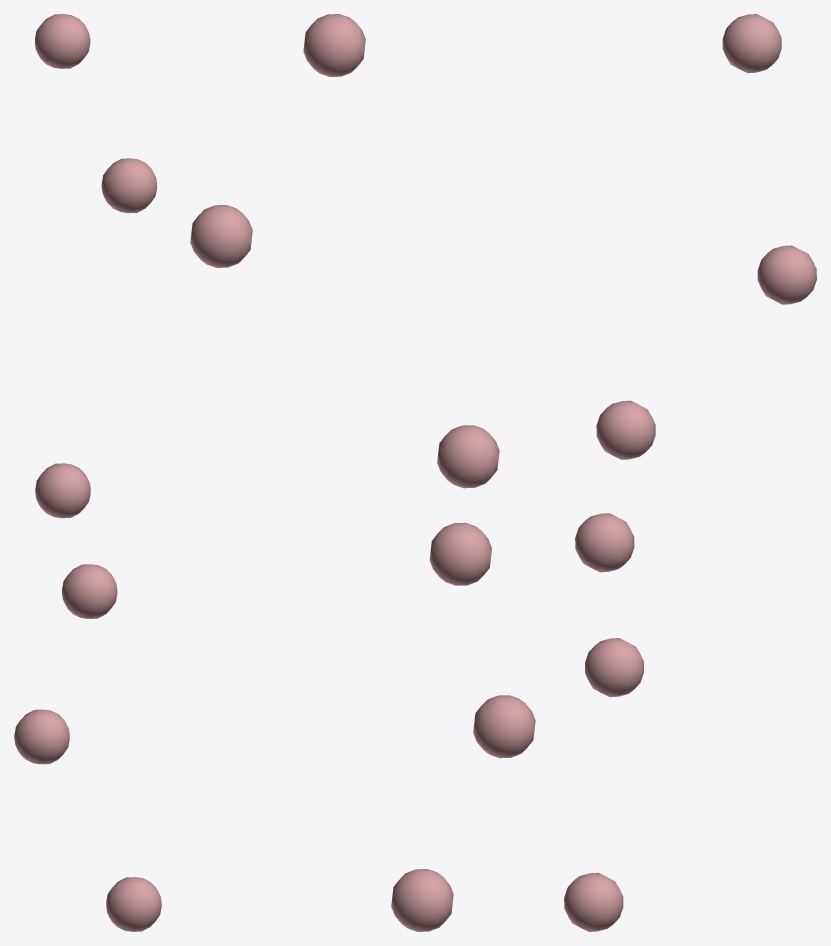
The picture shows the model from 3 angles, left to right: view 1: azimuth 30°, elevation 25°; view 2: azimuth 150°, elevation 25°; view 3: azimuth 270°, elevation 25°; orthographic projection. The views are drawn at different scales.
Visible parts, largest first — view 1: ZA_229bcd0641e77fd1; view 2: ZA_229bcd0641e77fd1; view 3: ZA_229bcd0641e77fd1.
Part boxes in pixels (left/top/right/bottom): ZA_229bcd0641e77fd1: left=14, top=14, right=161, bottom=931; ZA_229bcd0641e77fd1: left=190, top=14, right=535, bottom=931; ZA_229bcd0641e77fd1: left=564, top=14, right=816, bottom=931.
Bounding box in the file's own units: 0.0115 × 0.0436 × 0.0109.
